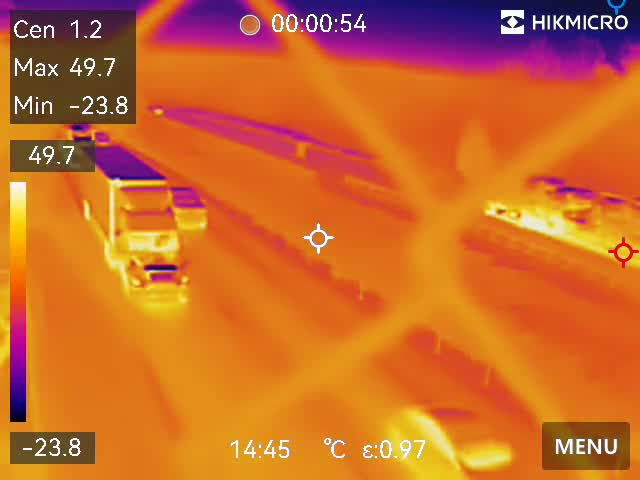heavyTruck: (67, 142, 187, 304), (483, 168, 640, 265)
smallCar: (385, 400, 550, 480)
vehicle: (164, 179, 208, 233)
